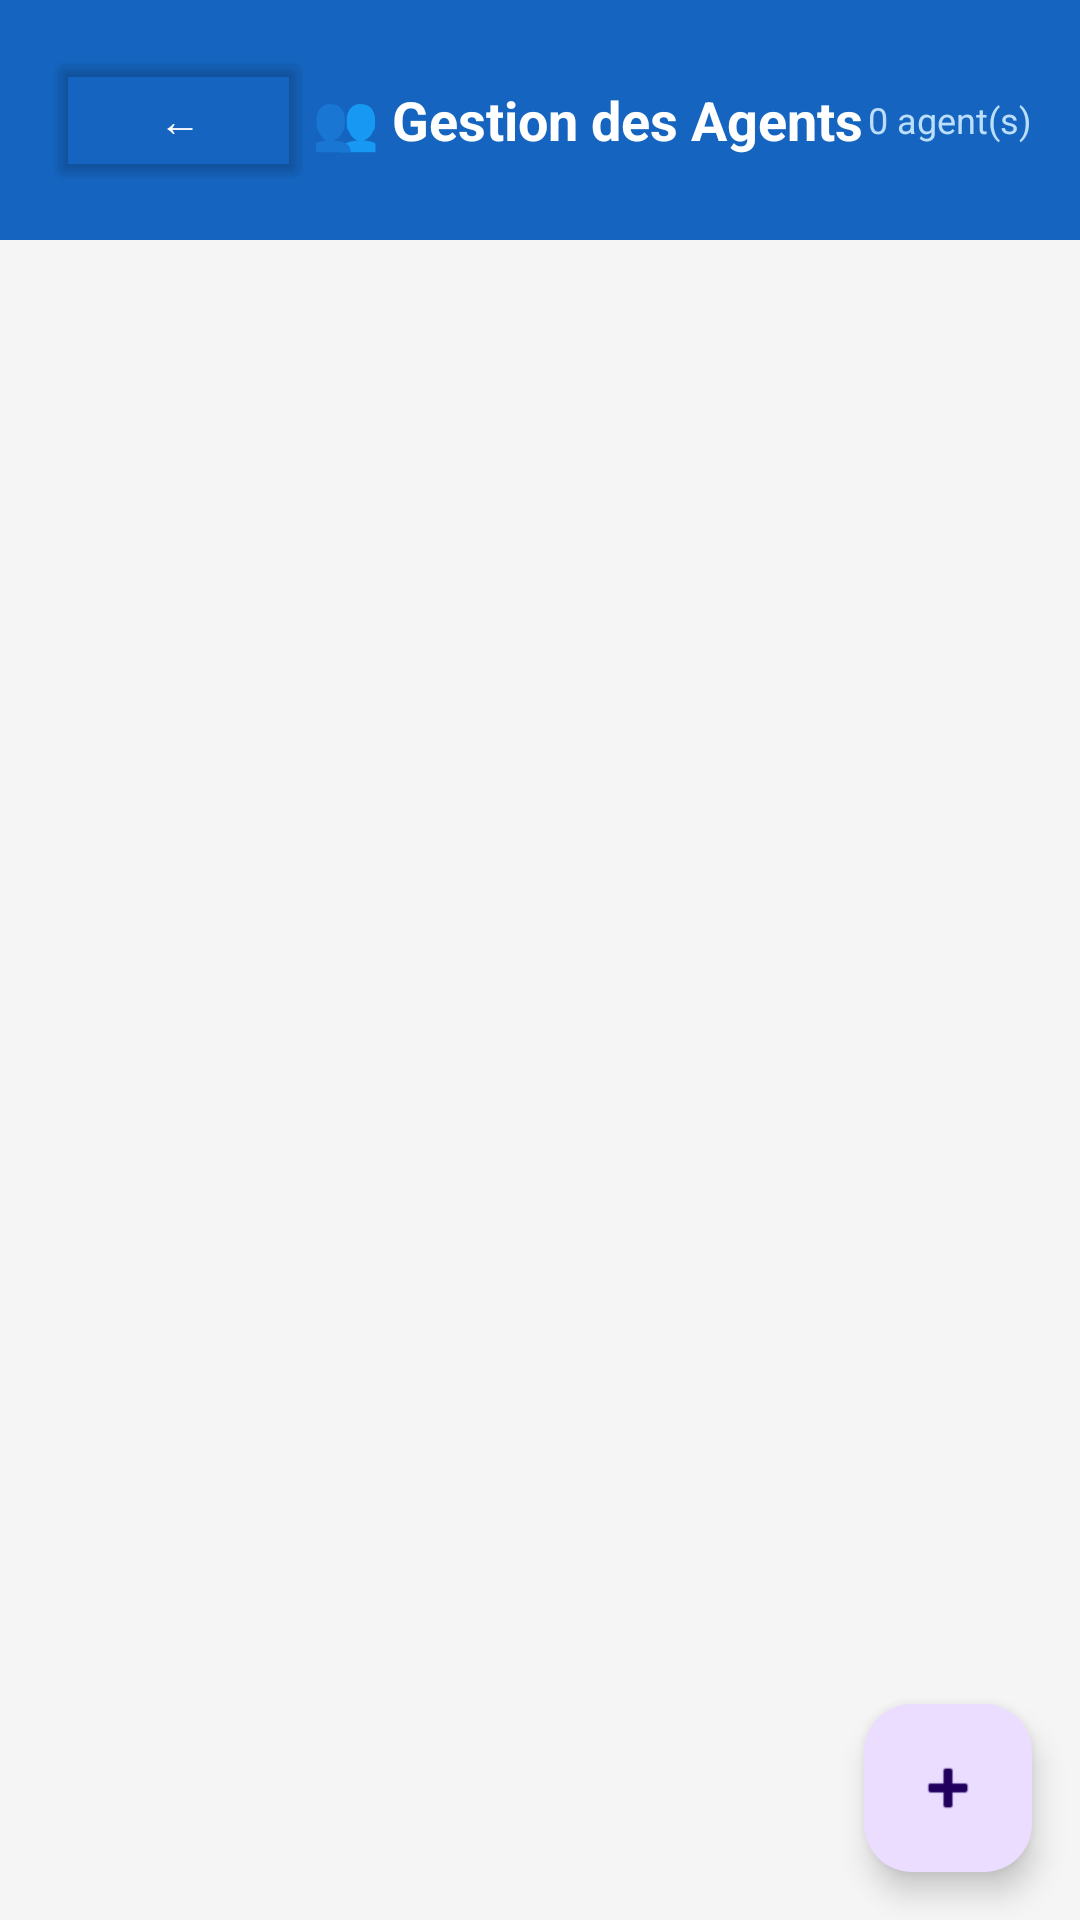

Where to tap for icons on this 1080*1920 app screen, as (x=x, y=y):
Ajouter un agent: (x=948, y=1788)
